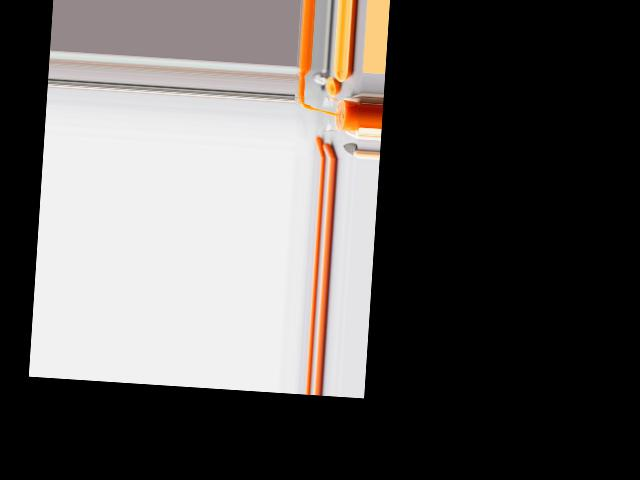carrot: (315, 135, 339, 158)
